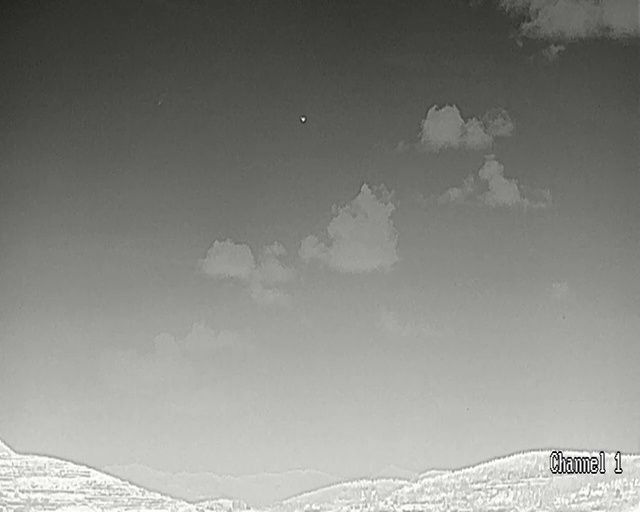uav: (300, 117, 304, 121)
